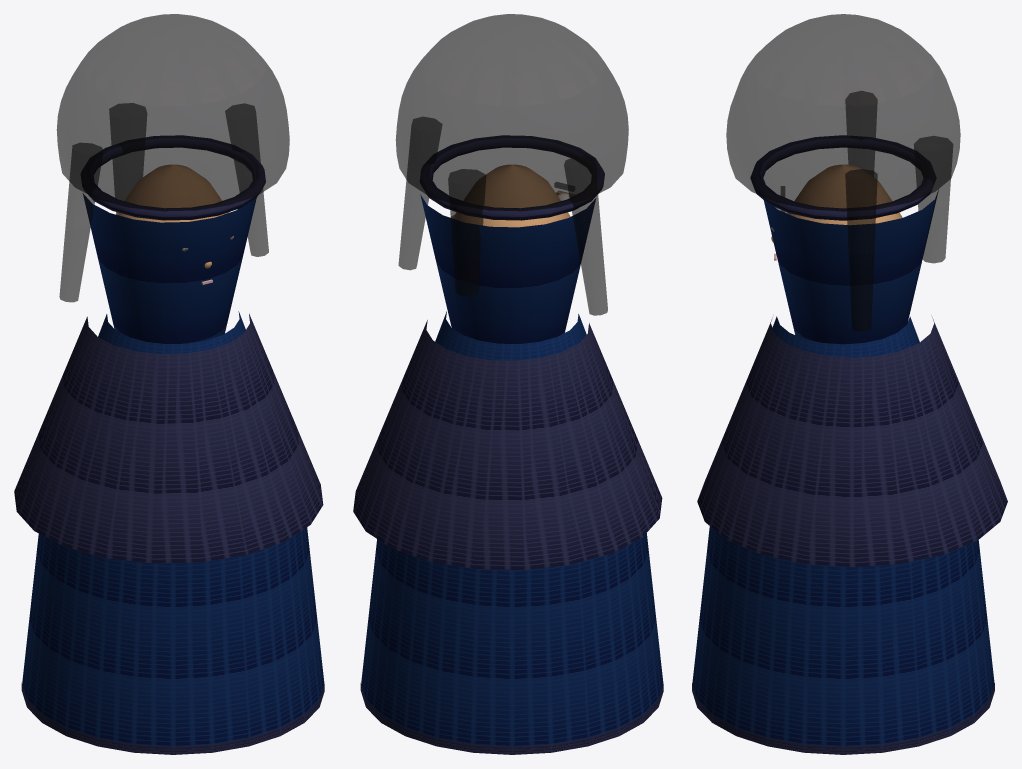
Rendered from mary_resurrection.glb.
3 renders of one model, left to right at view 1: azimuth 30°, elevation 25°; view 2: azimuth 150°, elevation 25°; view 3: azimuth 270°, elevation 25°, orthographic.
Parts seen in each view (by area): view 1: Character_mary_resurrection, head; view 2: Character_mary_resurrection, head; view 3: Character_mary_resurrection, head.
Part boxes in pixels (x1,y1,x2,y2): Character_mary_resurrection: (14, 14, 324, 754); head: (116, 165, 229, 222); Character_mary_resurrection: (353, 14, 663, 754); head: (453, 165, 570, 227); Character_mary_resurrection: (692, 14, 1007, 754); head: (787, 165, 902, 224).
Bounding box in the file's own units: 0.7608 × 1.8 × 0.7734.
12 materials, 8 textured.
